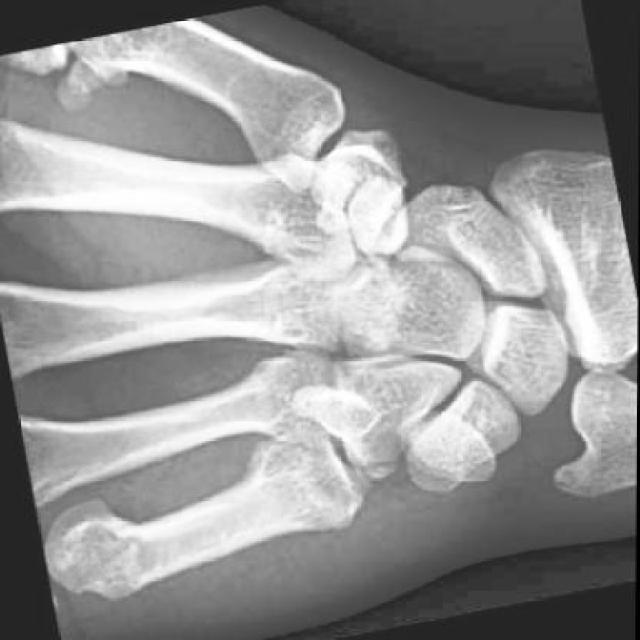bone: (342, 443, 404, 494)
